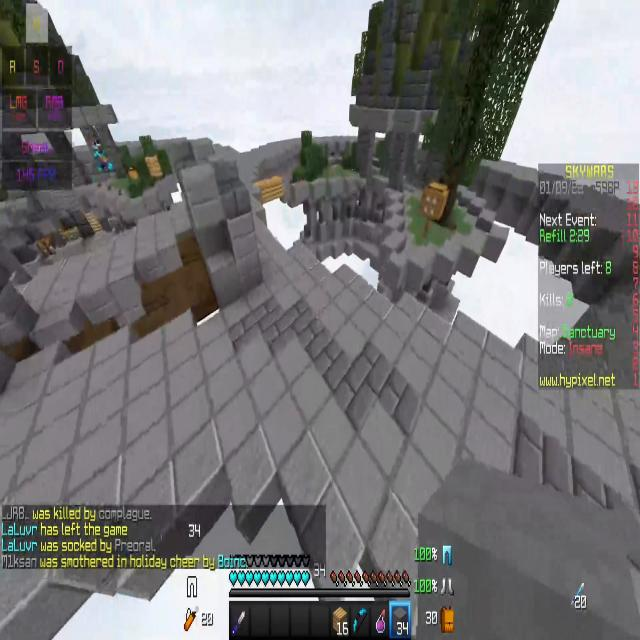Player: (87, 135, 116, 185)
